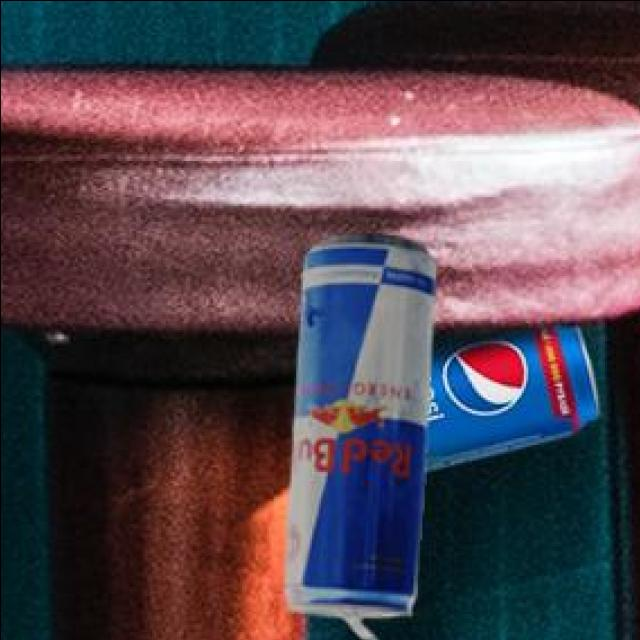logam: (281, 231, 432, 639), (420, 323, 594, 465)
